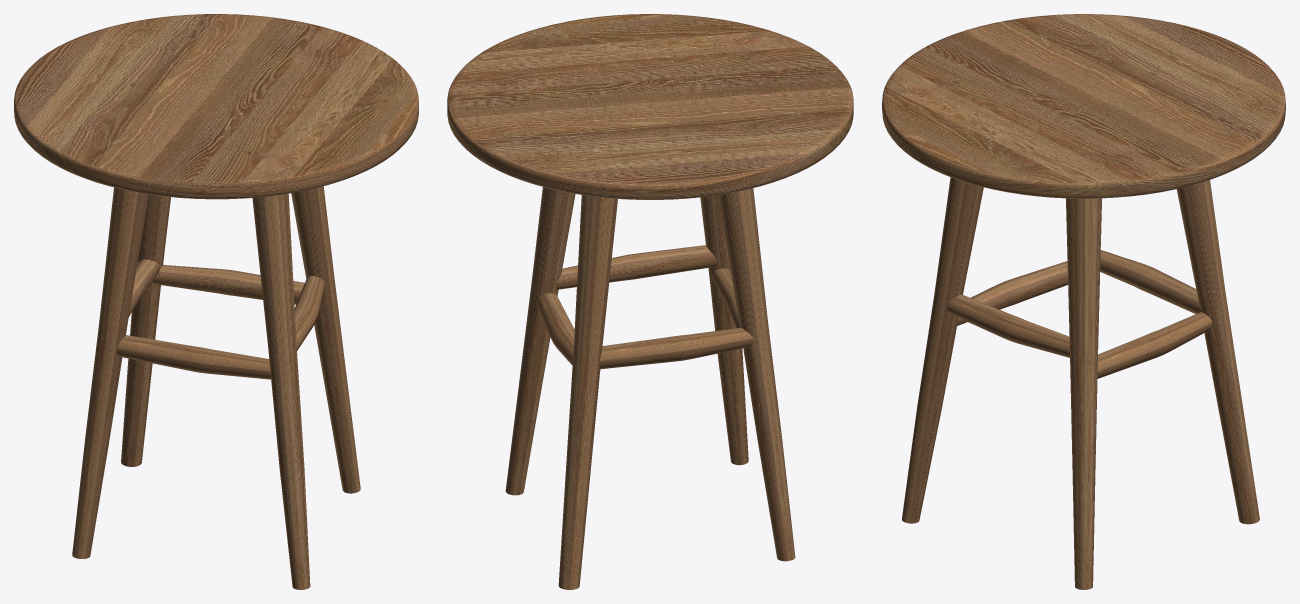
The model's file is TableWood.fbx.
3 renders of one model, left to right at view 1: azimuth 30°, elevation 25°; view 2: azimuth 150°, elevation 25°; view 3: azimuth 270°, elevation 25°, orthographic.
Parts seen in each view (by area): view 1: TableWood; view 2: TableWood; view 3: TableWood.
Part boxes in pixels (<box>): TableWood: <box>14,14,418,589</box>; TableWood: <box>447,14,853,589</box>; TableWood: <box>882,14,1285,589</box>.
Size of the model in its own units: 157 by 181 by 157.
